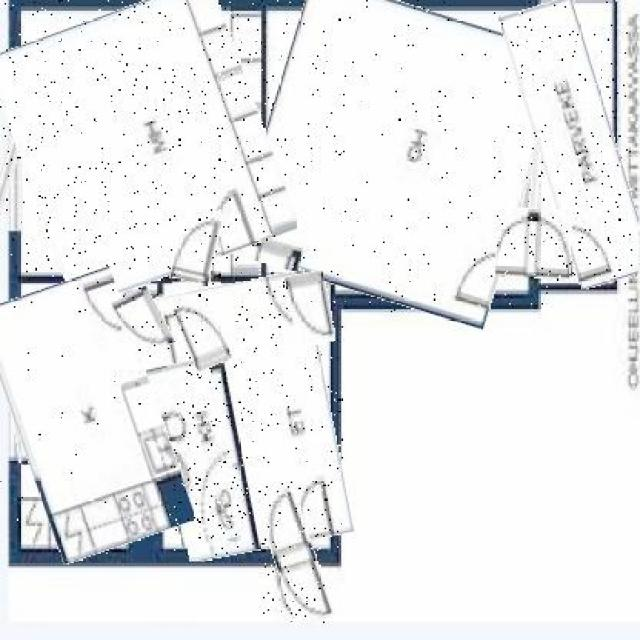door: (263, 483, 325, 626), (497, 210, 572, 278), (172, 209, 220, 286), (117, 288, 169, 357), (179, 298, 226, 369), (288, 272, 332, 346)
window: (0, 55, 32, 227), (525, 17, 546, 209), (2, 312, 26, 465)
zone: (246, 0, 547, 312), (2, 0, 278, 291), (152, 277, 343, 555), (0, 272, 174, 557), (518, 0, 632, 286), (152, 360, 237, 546)
